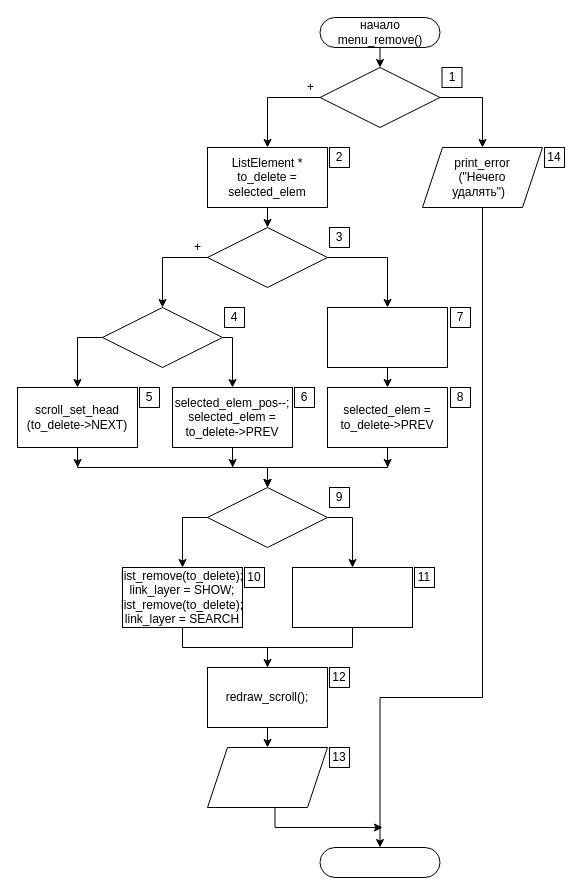
This 582x895 diagram has some shape labels left out. Here are the shapes that lost their labels. From the top down, the centre of each, then its label:
point 379,97: selected_elem
point 267,257: HEAD == first_elem_on_screen
point 162,337: 0 == selected_elem_pos
point 387,337: first_elem_on_screen = first_elem_on_screen ->PREV
point 267,517: link_layer == SEARCH
point 352,597: list_remove (to_delete)
point 267,777: remove_quote(); print_to_status ( " Элемент удалён " )
point 379,862: конец
